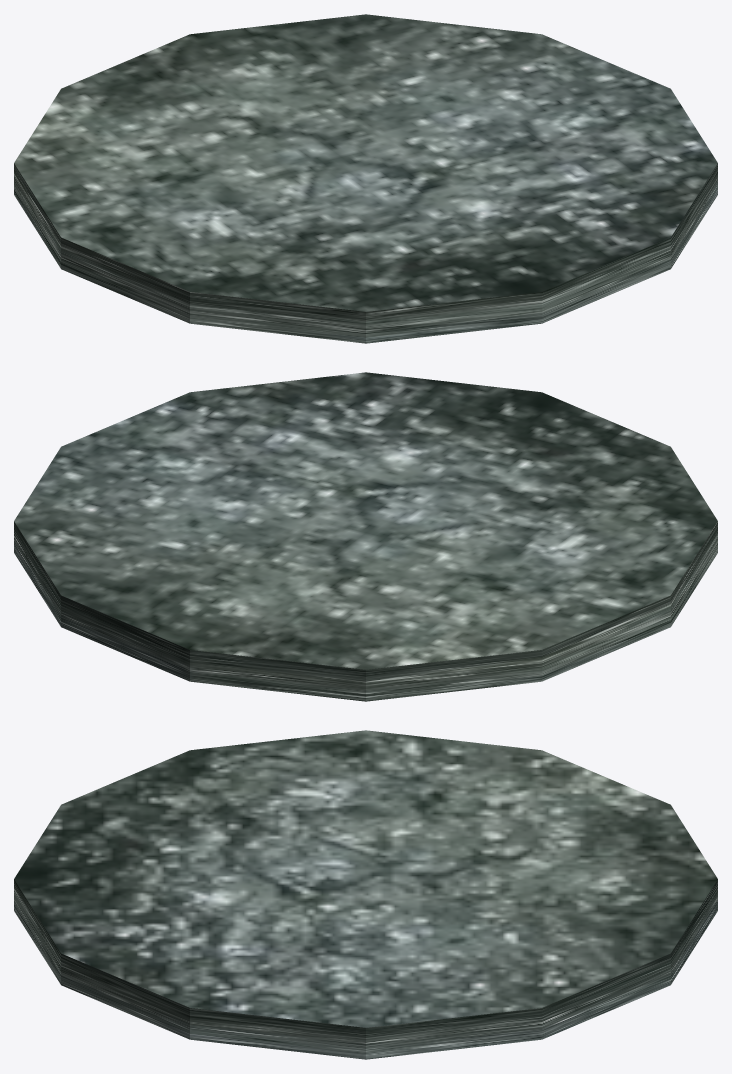
Rendered from liquid.glb.
The picture shows the model from 3 angles, top to bottom: view 1: azimuth 30°, elevation 25°; view 2: azimuth 150°, elevation 25°; view 3: azimuth 270°, elevation 25°; orthographic projection.
Parts seen in each view (by area): view 1: Liquid; view 2: Liquid; view 3: Liquid.
Part boxes in pixels (<box>): Liquid: <box>14,14,717,343</box>; Liquid: <box>14,372,717,701</box>; Liquid: <box>14,730,717,1059</box>.
Size of the model in its own units: 1.76 by 0.0879 by 1.76.
Materials: 1 (1 with a texture image).
